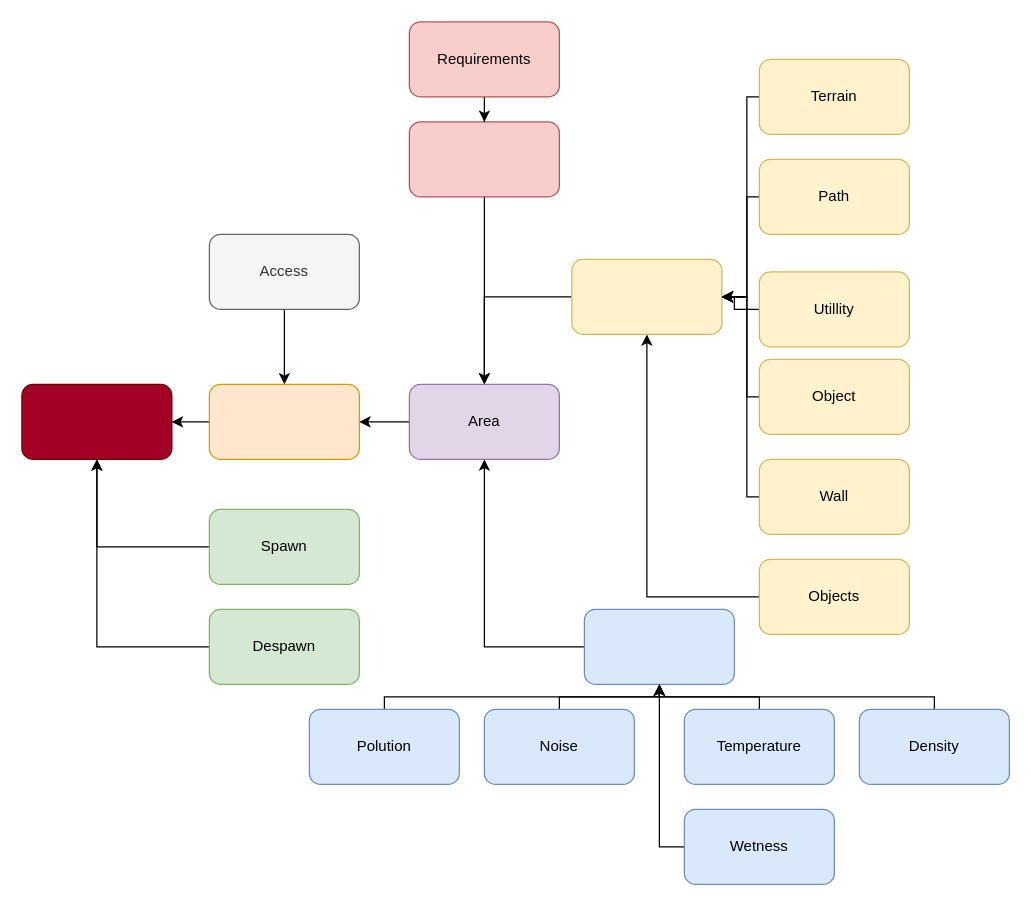
The diagram is 1031 pixels wide and 906 high, and some of its shapes have lost their labels. The centre of each missing label's shape, as x and y in pixels:
"Enviroment" goes at point (658, 646).
"Map" goes at point (96, 421).
"Rooms" goes at point (483, 159).
"Tile" goes at point (646, 296).
"Zones" goes at point (283, 421).
